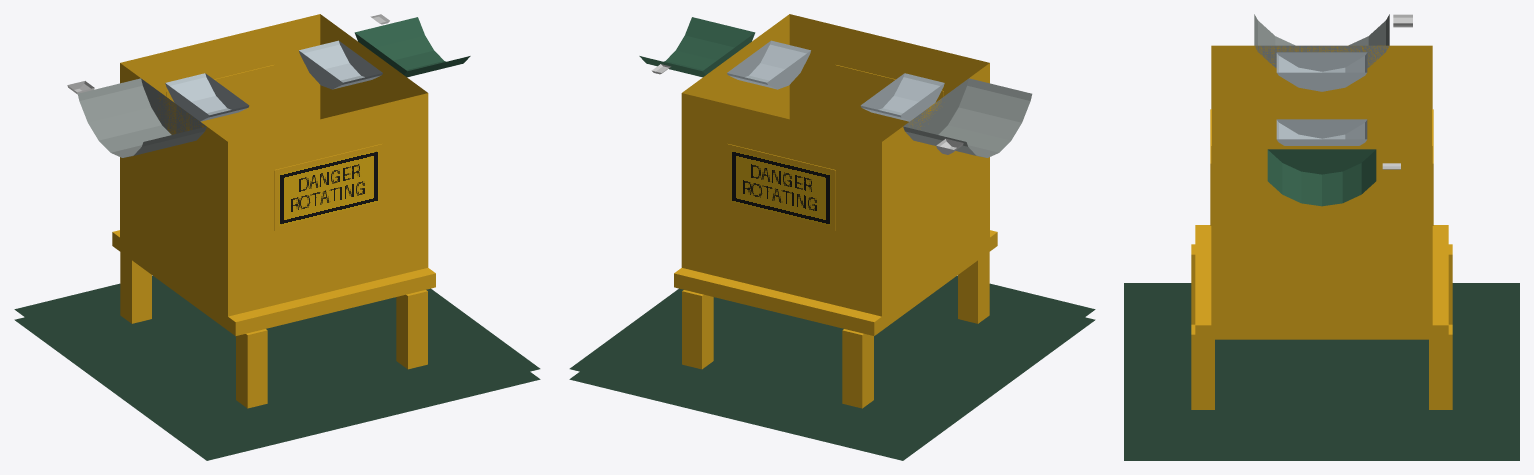
The model's file is cell_12.obj.
The picture shows the model from 3 angles, left to right: view 1: azimuth 30°, elevation 25°; view 2: azimuth 150°, elevation 25°; view 3: azimuth 270°, elevation 25°; orthographic projection. The views are drawn at different scales.
Size of the model in its own units: 1 by 0.78 by 1.
